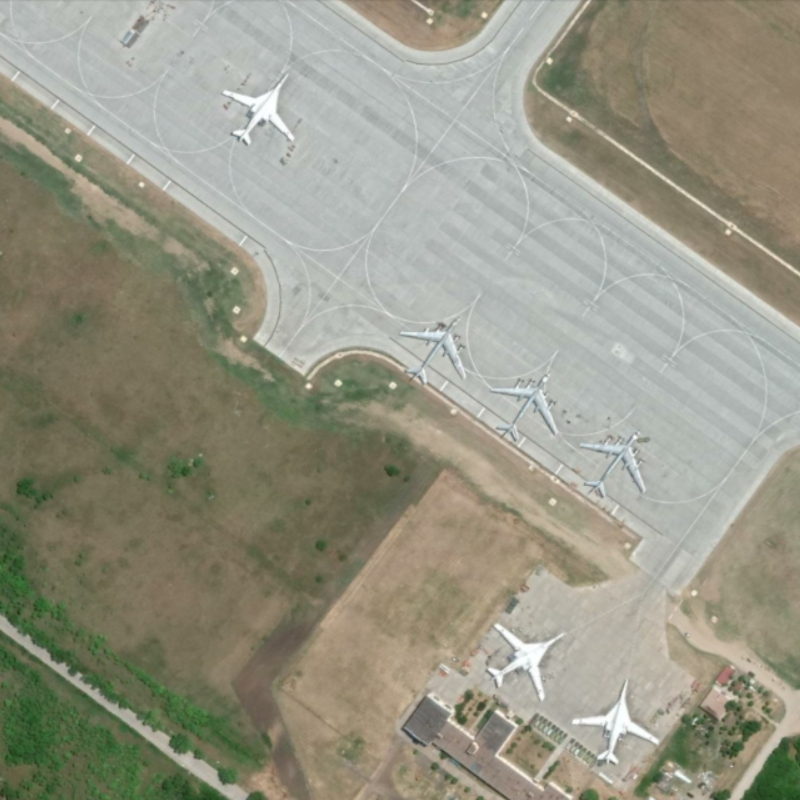A17: (483, 369, 563, 445), (394, 313, 472, 390), (574, 425, 651, 501)
A6: (566, 676, 663, 770), (484, 619, 573, 705), (220, 65, 302, 148)
